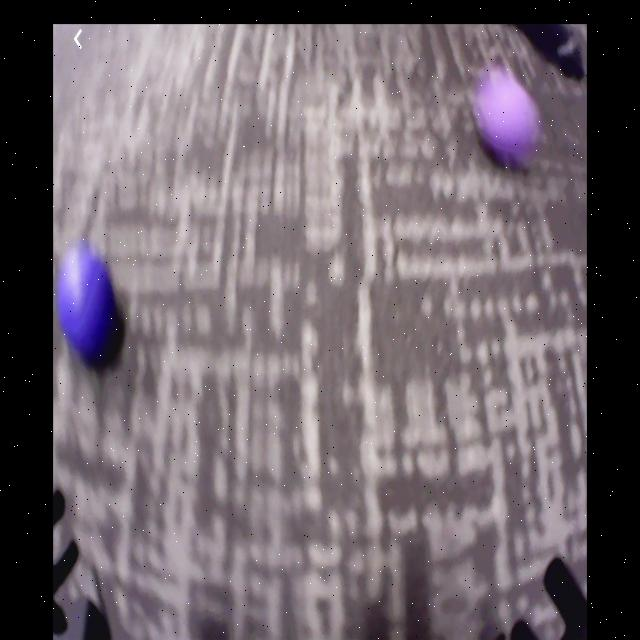ball: (61, 244, 114, 357), (483, 79, 540, 158)
